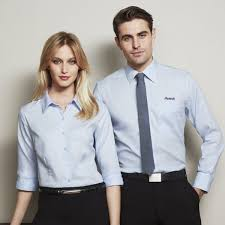F_belt: (110, 161, 195, 189)
F_shirt: (97, 66, 224, 193), (9, 88, 124, 199)
F_tie: (133, 72, 157, 182)
